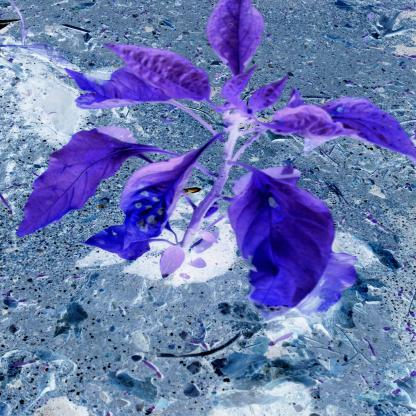Bell_pepper leaf: (220, 160, 336, 310), (16, 127, 159, 238), (102, 40, 218, 105), (310, 96, 415, 161), (206, 1, 274, 73)
